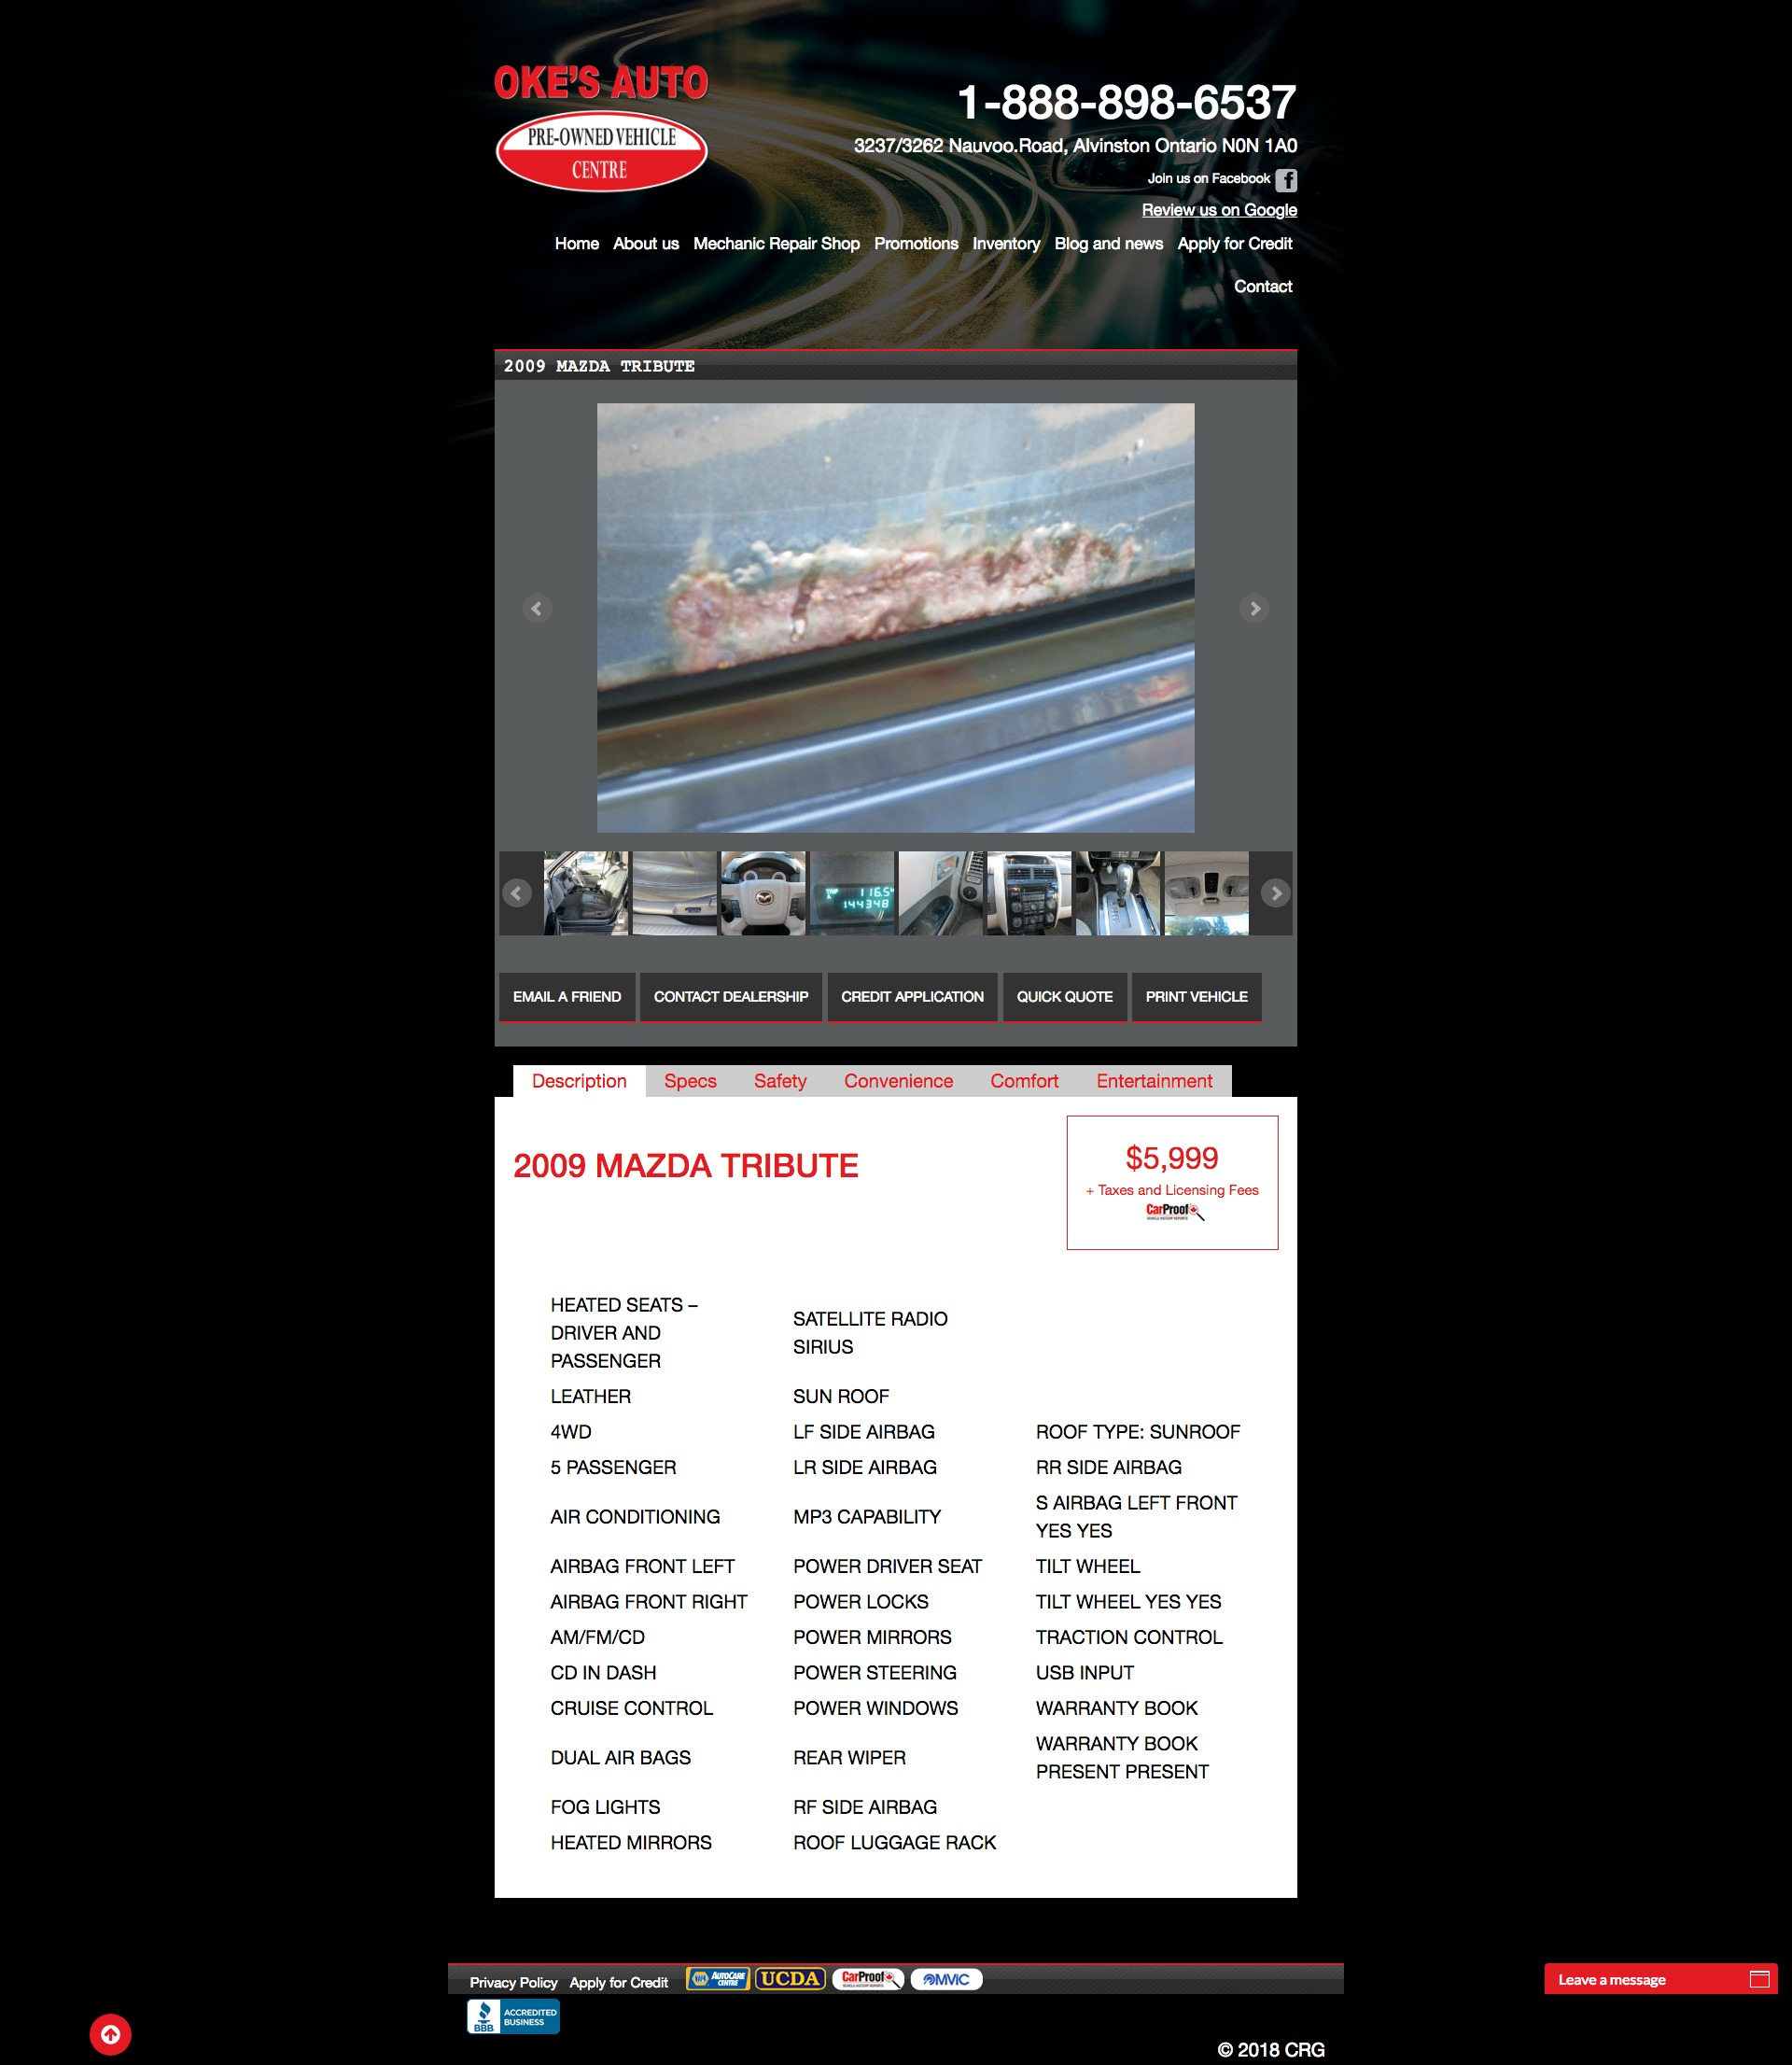car: (1260, 878, 1294, 910)
